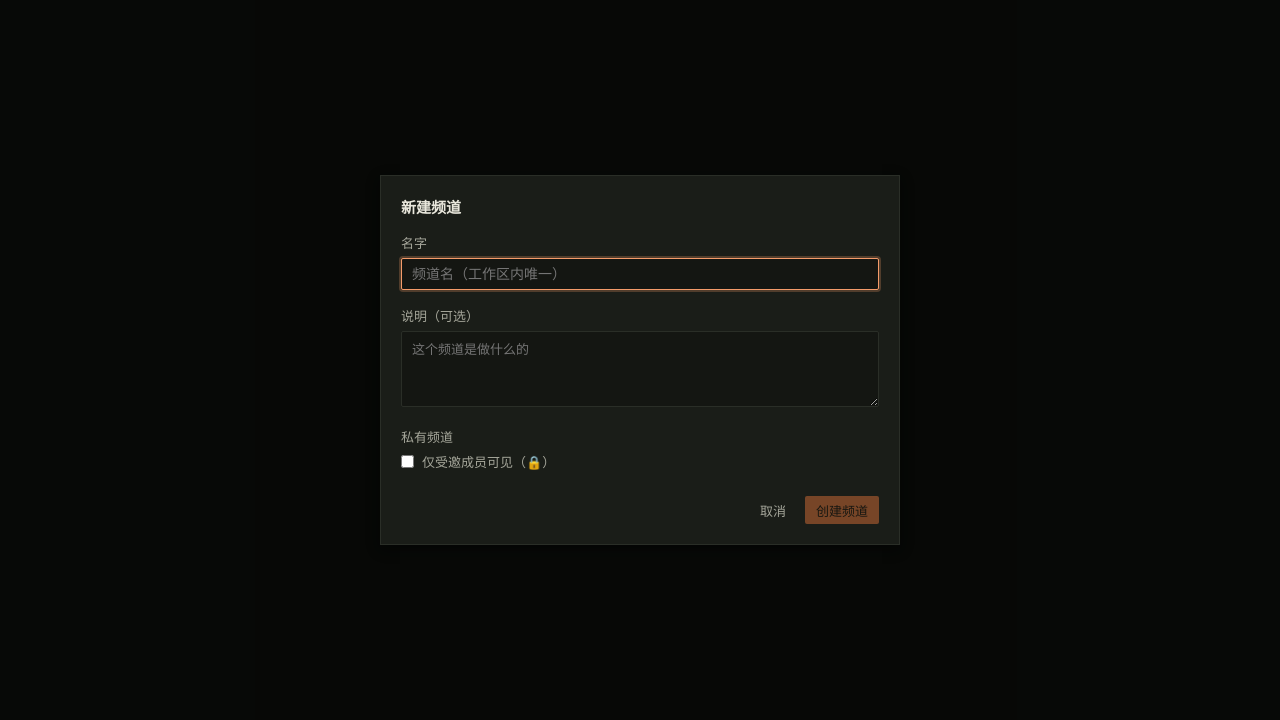
Test: NewChannelModal › NAME_TAKEN 就地报错不关窗
Type "design" into the field labelled "名字" at (640, 274), box [412, 266, 868, 282]
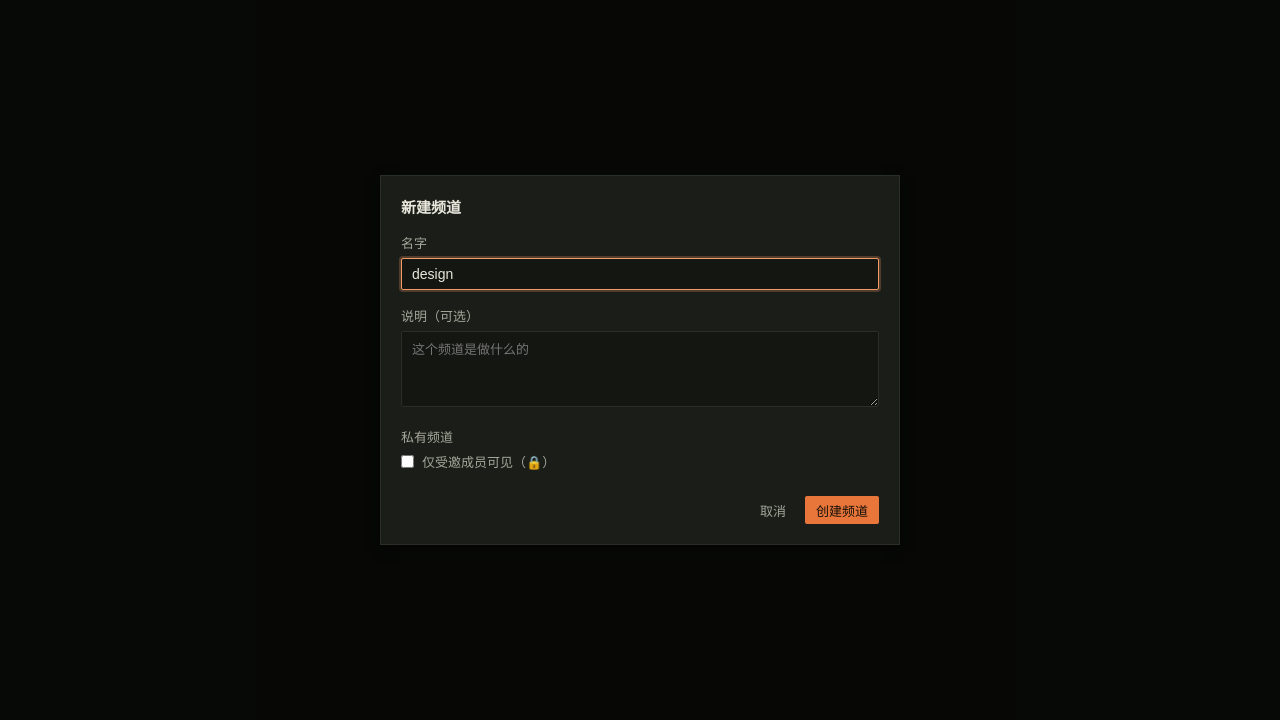
Click the button "创建频道" at (842, 510), box [805, 496, 879, 524]
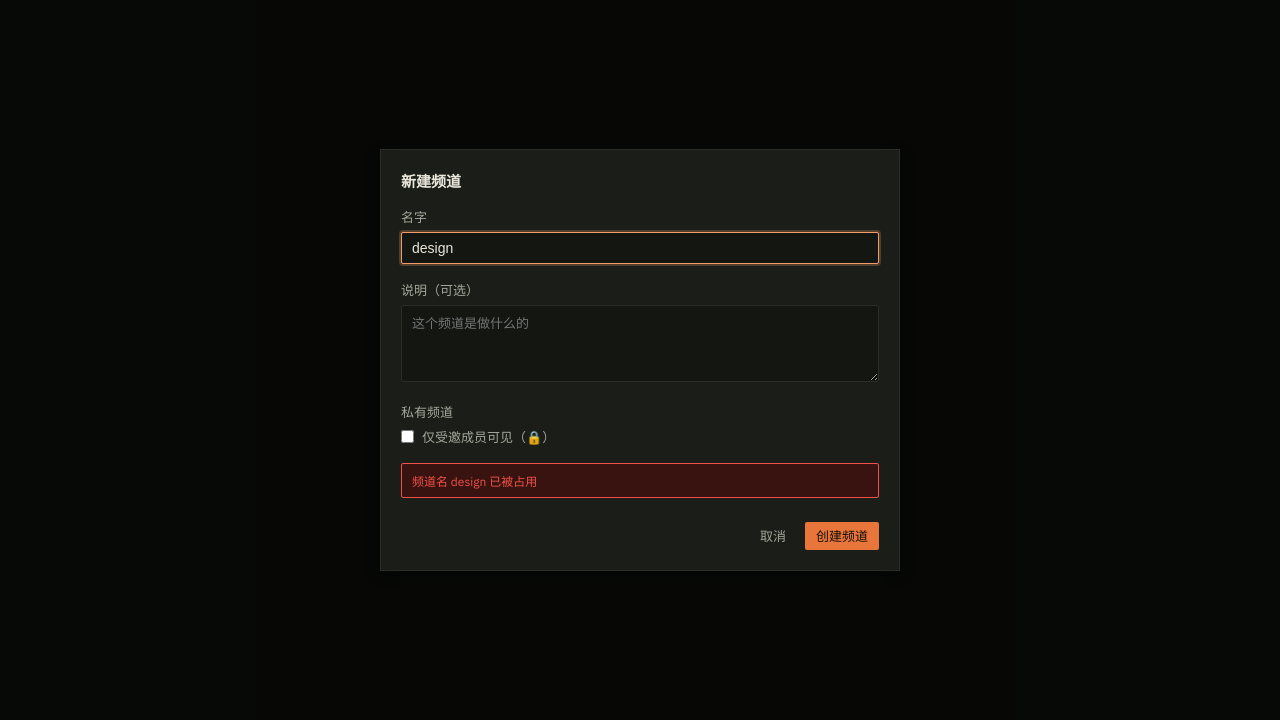
Check: the dialog "新建频道" is shown, box [380, 149, 900, 571]
Check: the message shows "已被占用", box [412, 474, 537, 489]
